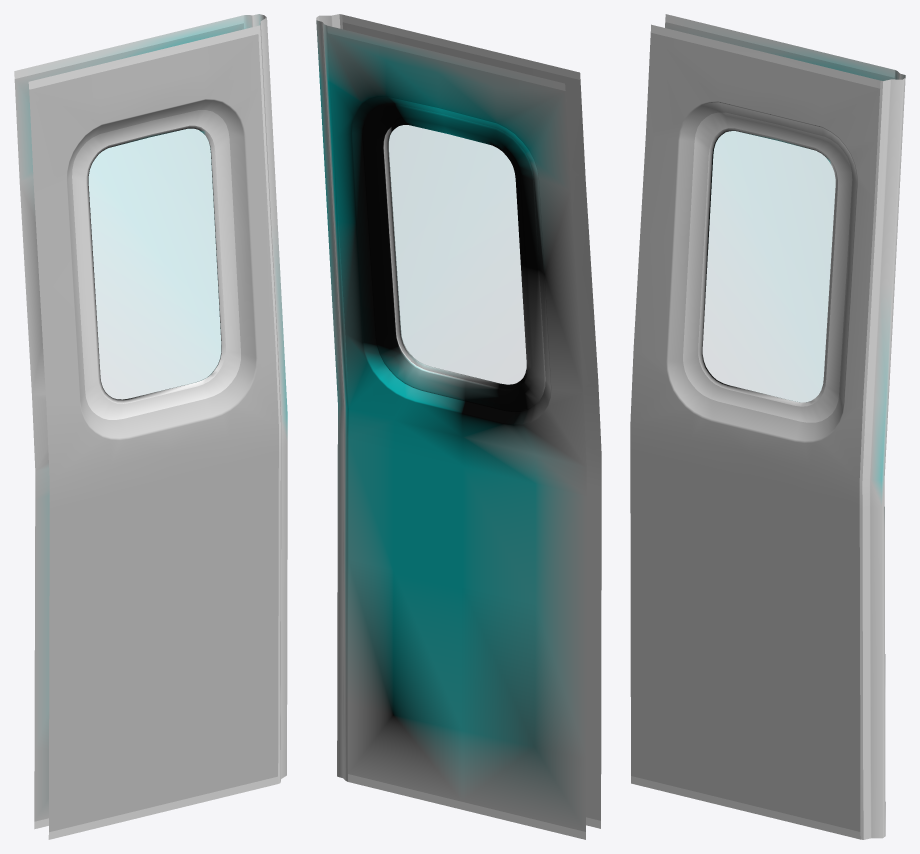
Rendered from SM_door_wall_02.fbx.
3 views of the same model, side by side, from view 1: azimuth 30°, elevation 25°; view 2: azimuth 150°, elevation 25°; view 3: azimuth 330°, elevation 25° (orthographic). The views are drawn at different scales.
Visible parts, largest first — view 1: SM_door_wall_02; view 2: SM_door_wall_02; view 3: SM_door_wall_02.
Boxes of the visible parts, left/top/right/bottom form: SM_door_wall_02: left=14, top=14, right=287, bottom=839; SM_door_wall_02: left=316, top=14, right=601, bottom=839; SM_door_wall_02: left=630, top=14, right=905, bottom=839.
Size of the model in its own units: 75.49 by 18.94 by 219.
